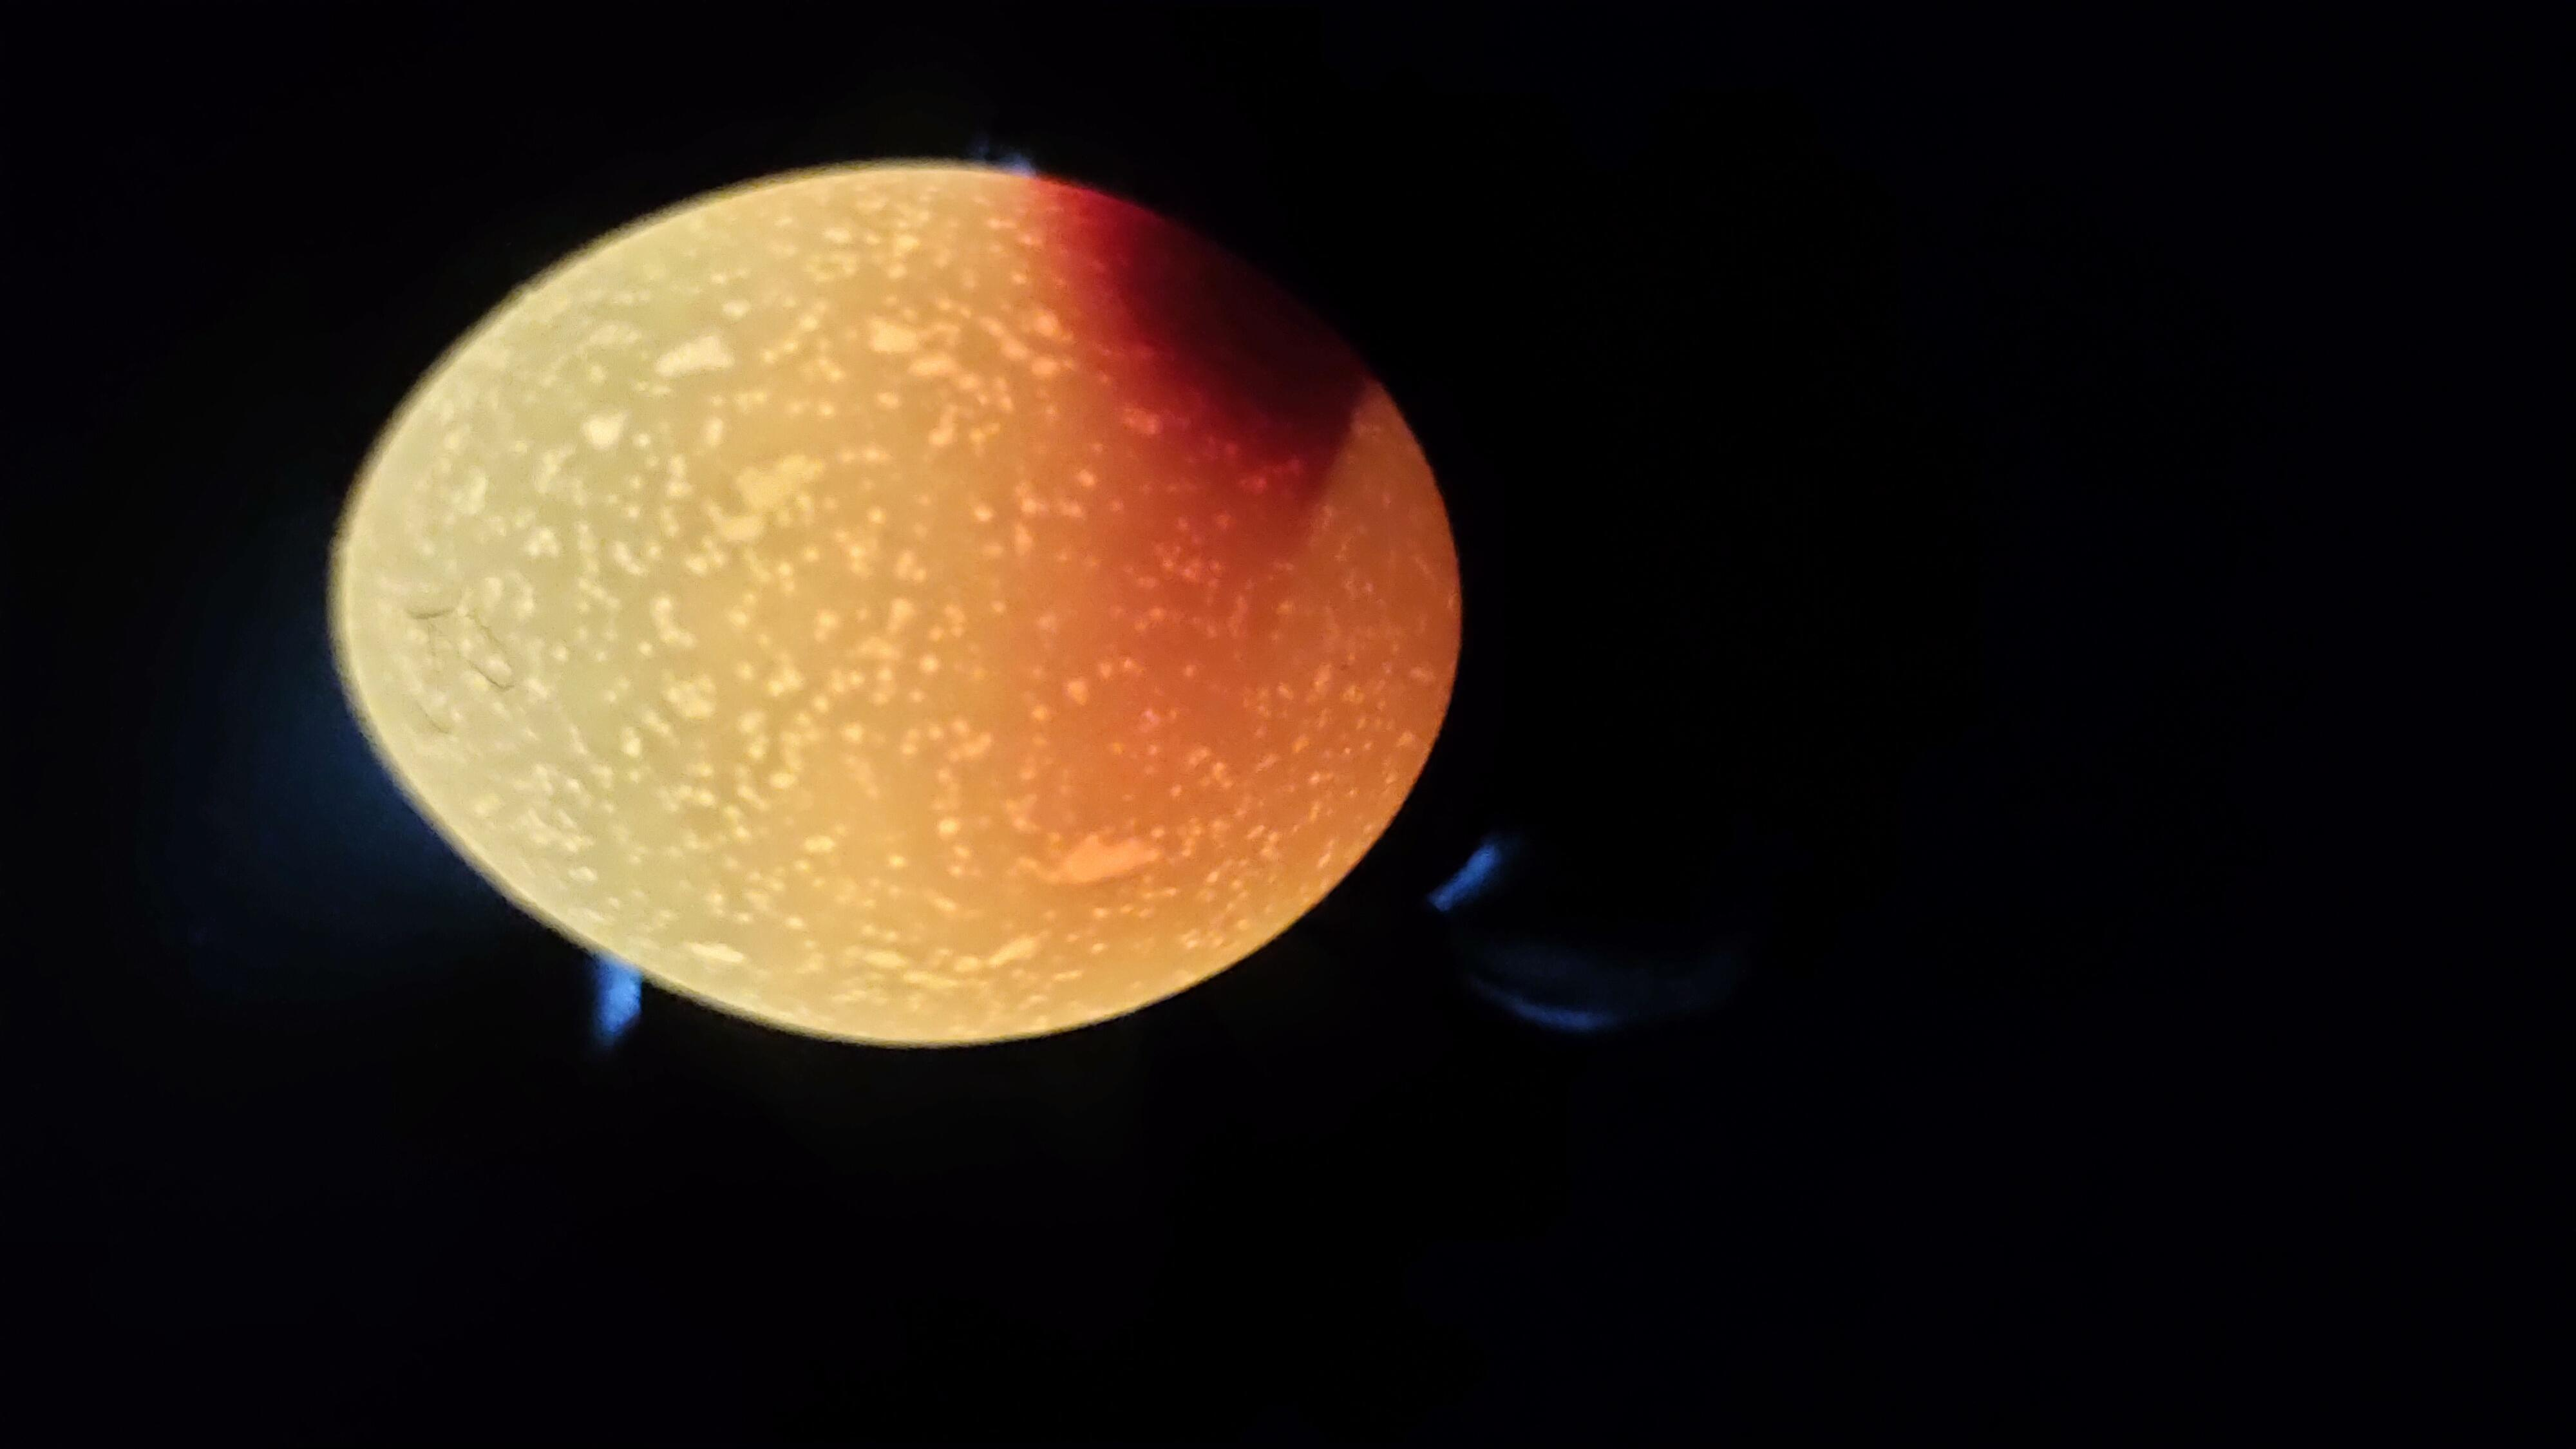AA - Premium: (538, 152, 2461, 885)
